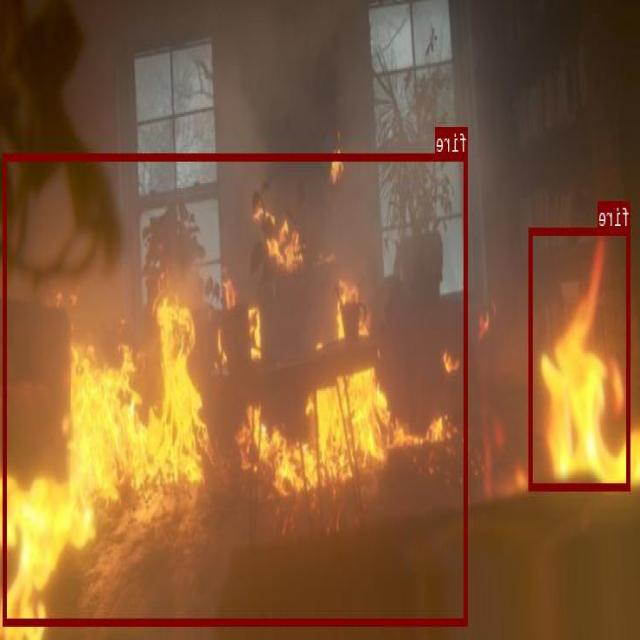fire: (4, 153, 468, 624), (529, 226, 631, 490)
